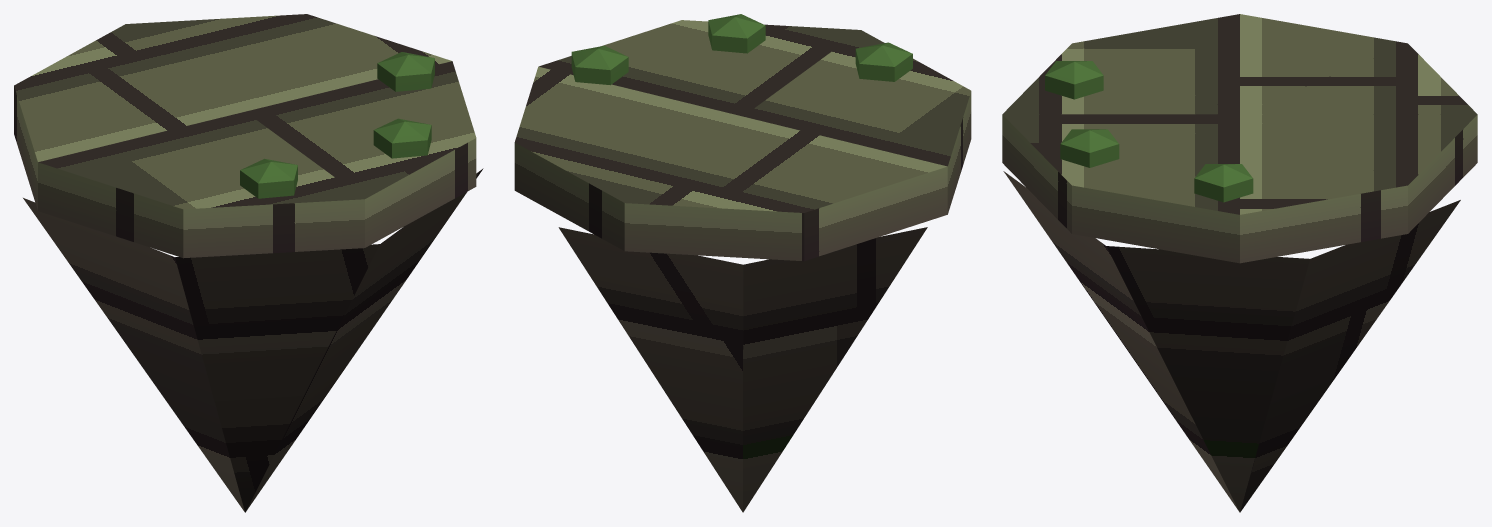
Rendered from rift_shard.glb.
3 renders of one model, left to right at view 1: azimuth 30°, elevation 25°; view 2: azimuth 150°, elevation 25°; view 3: azimuth 270°, elevation 25°, orthographic.
Parts seen in each view (by area): view 1: rift_shard; view 2: rift_shard; view 3: rift_shard.
Boxes of the visible parts, bbox=[...] form: rift_shard: bbox=[14, 14, 483, 512]; rift_shard: bbox=[514, 14, 971, 512]; rift_shard: bbox=[1002, 14, 1477, 512].
Size of the model in its own units: 1.6 by 1.57 by 1.6.
2 materials, 1 textured.
